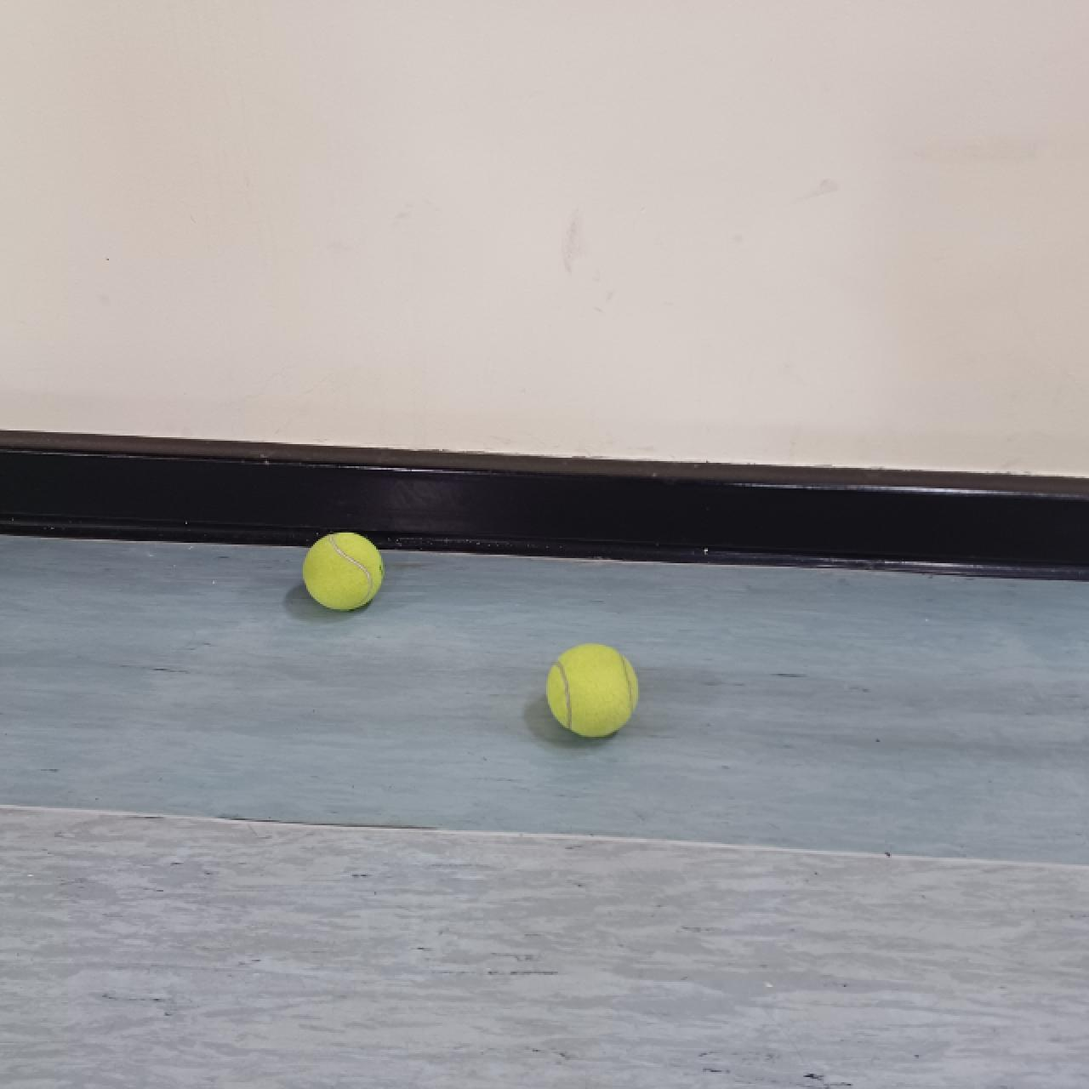tennis-ball: (544, 640, 639, 740), (303, 527, 387, 614)
